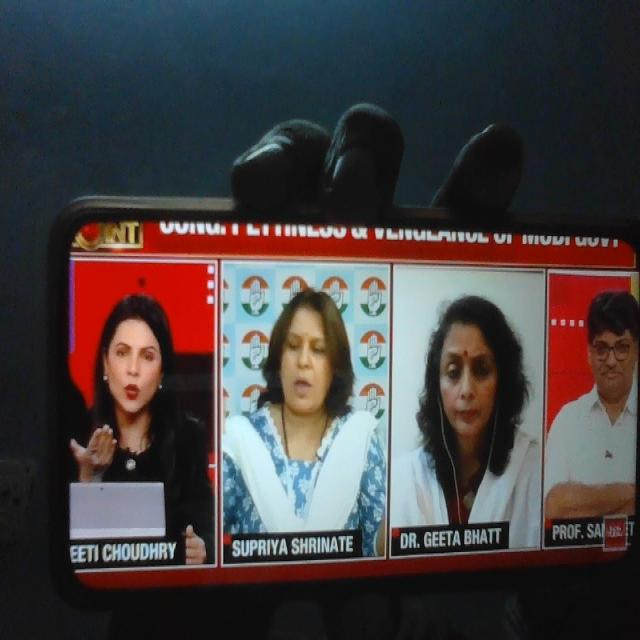fake: (406, 268, 522, 487)
